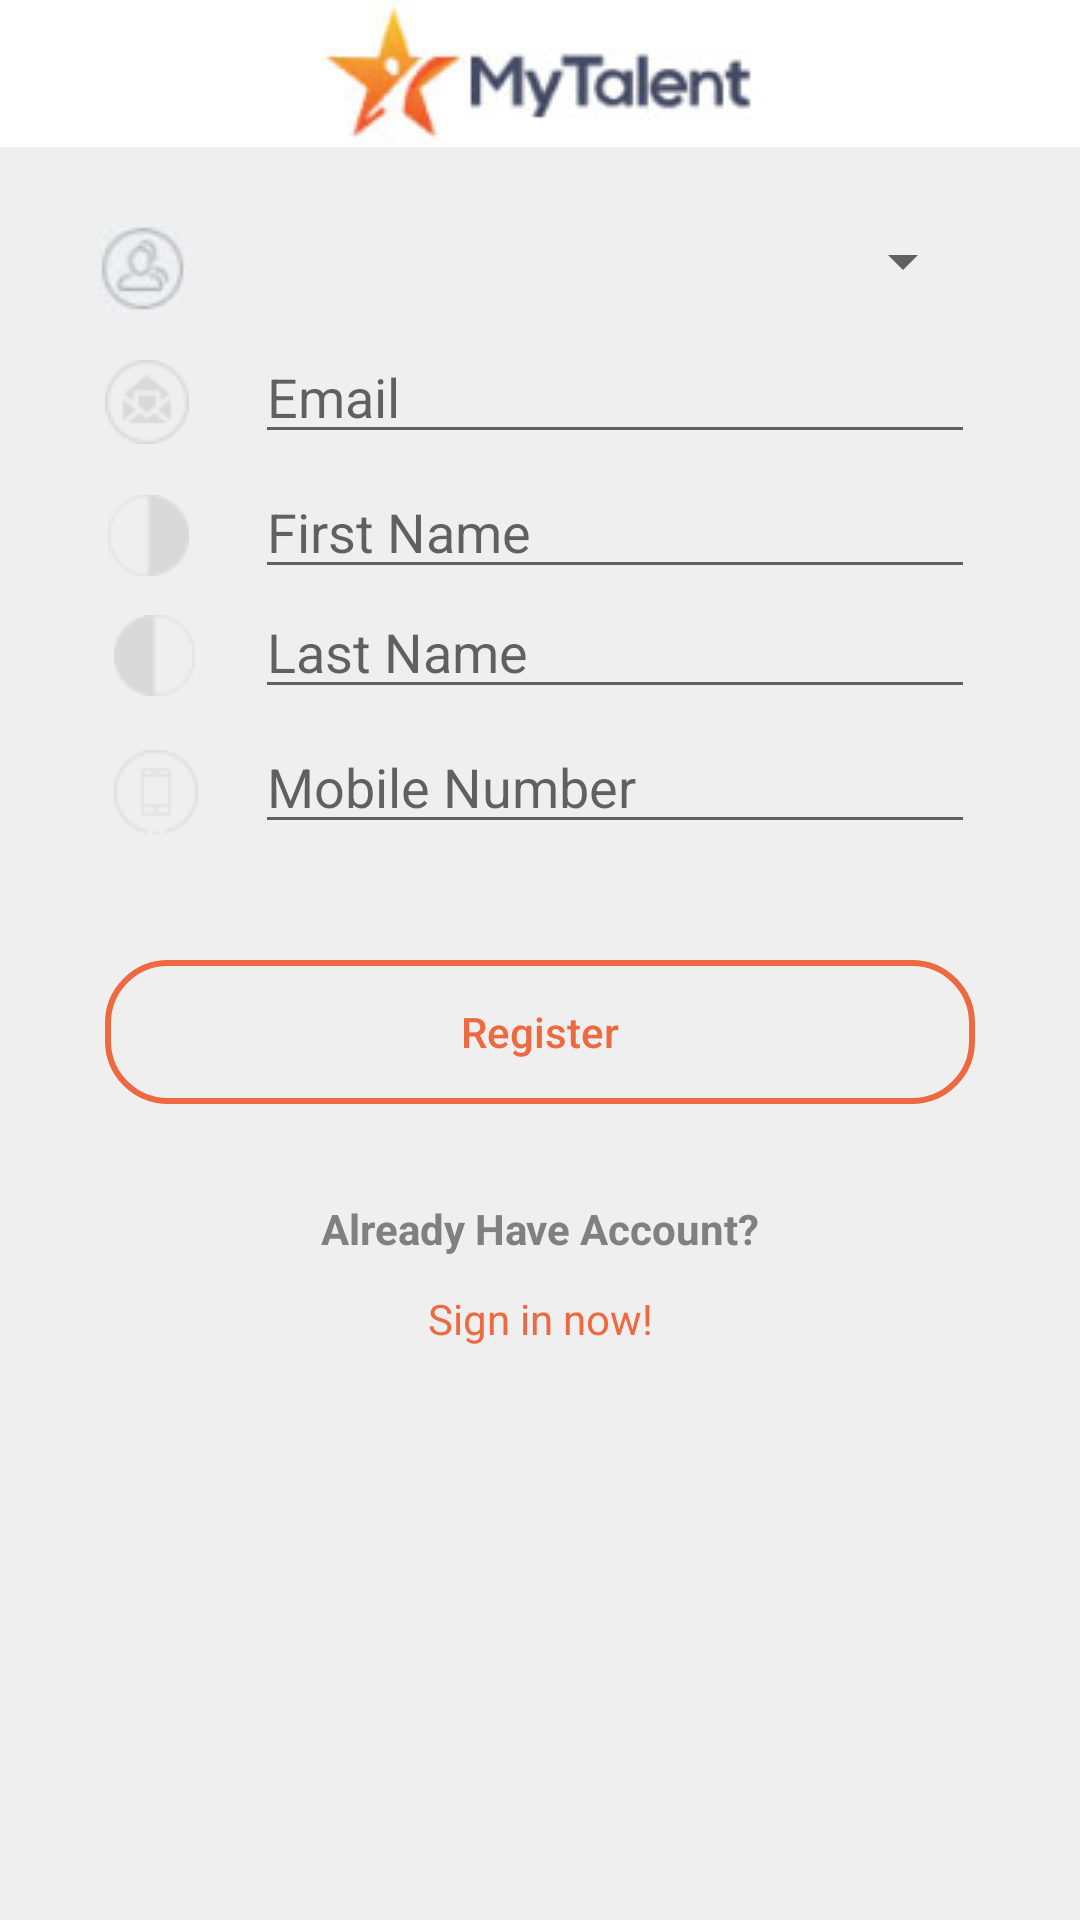

Named icons in this screenshot (1080x1920) and their bounding boxes, box(x1, y1, x2, y2):
userfont: box(102, 228, 183, 309)
